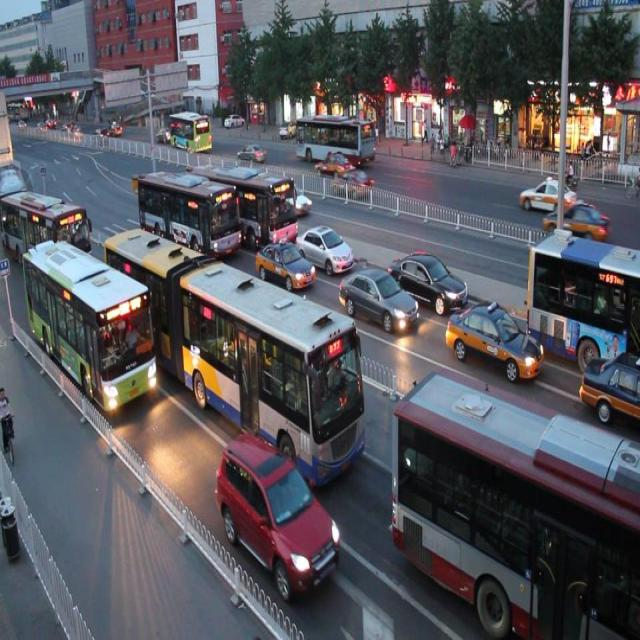car: (214, 435, 340, 595), (446, 294, 544, 382), (337, 258, 416, 331), (390, 243, 468, 309), (577, 348, 640, 418), (253, 230, 314, 289), (294, 214, 352, 273), (67, 255, 114, 308), (271, 176, 313, 217)
van: (102, 218, 366, 482), (392, 374, 640, 640), (23, 242, 157, 416), (524, 233, 640, 364), (136, 160, 240, 262), (191, 153, 298, 248), (1, 182, 90, 272)
